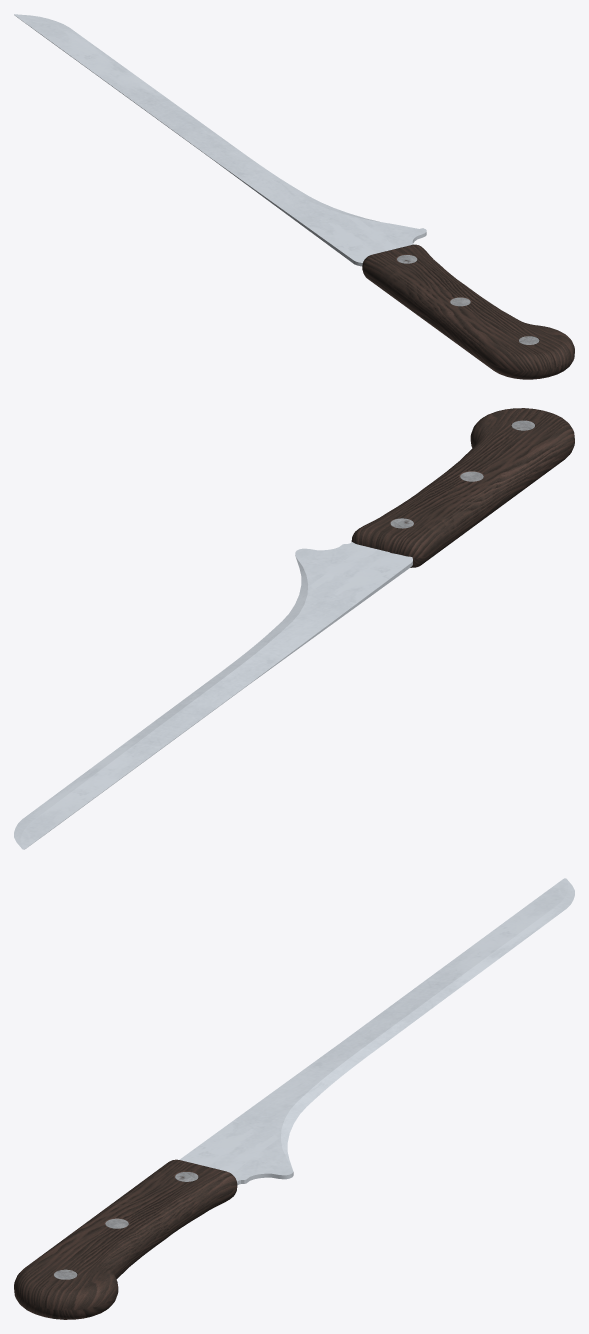
File: knife-prick.fbx
3 views of the same model, one above another, from view 1: azimuth 30°, elevation 25°; view 2: azimuth 150°, elevation 25°; view 3: azimuth 330°, elevation 25° (orthographic). The views are drawn at different scales.
Visible parts, largest first — view 1: Knife_prick; view 2: Knife_prick; view 3: Knife_prick.
Boxes of the visible parts, <box> form: Knife_prick: <box>14,14,574,379</box>; Knife_prick: <box>14,408,574,849</box>; Knife_prick: <box>14,878,574,1319</box>.
Size of the model in its own units: 1.92 by 0.5142 by 18.91.
